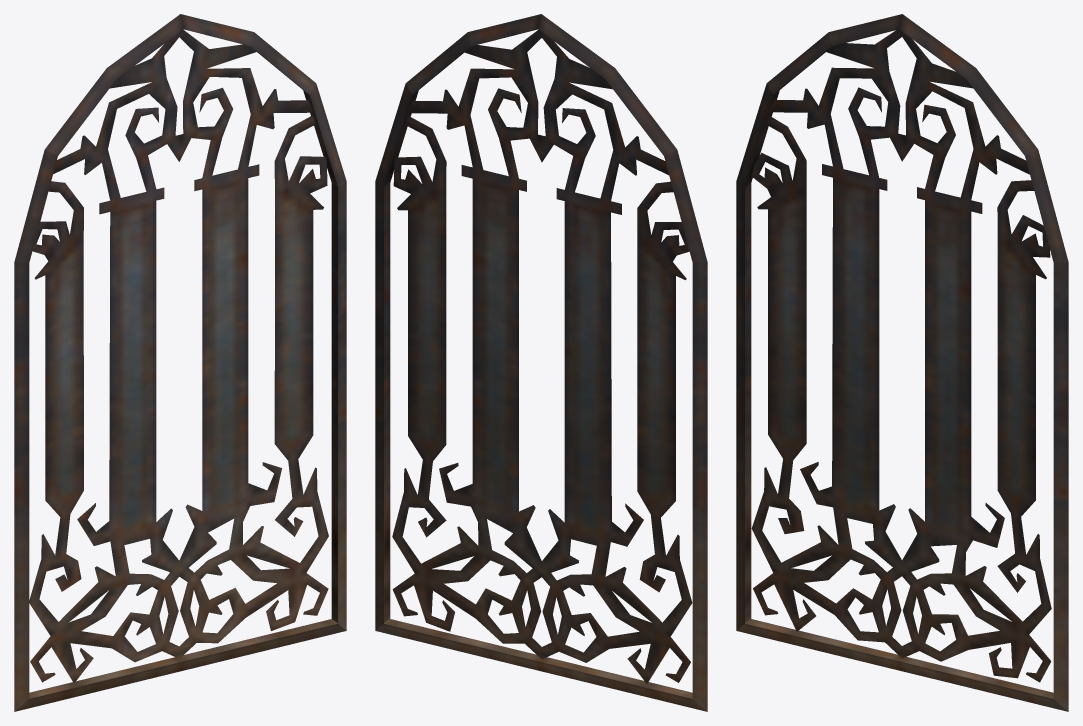
The model's file is SM_EN_2005_tiemen02.FBX.
3 views of the same model, side by side, from view 1: azimuth 30°, elevation 25°; view 2: azimuth 150°, elevation 25°; view 3: azimuth 330°, elevation 25° (orthographic).
Visible parts, largest first — view 1: SM_EN_2005_tiemen02; view 2: SM_EN_2005_tiemen02; view 3: SM_EN_2005_tiemen02.
Boxes of the visible parts, x1=… form: SM_EN_2005_tiemen02: x1=14, y1=14, x2=346, y2=711; SM_EN_2005_tiemen02: x1=375, y1=14, x2=707, y2=711; SM_EN_2005_tiemen02: x1=736, y1=14, x2=1068, y2=711.
Bounding box in the file's own units: 63.44 × 120 × 2.16.
